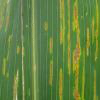Corn leaf blight: (0, 0, 97, 99)
